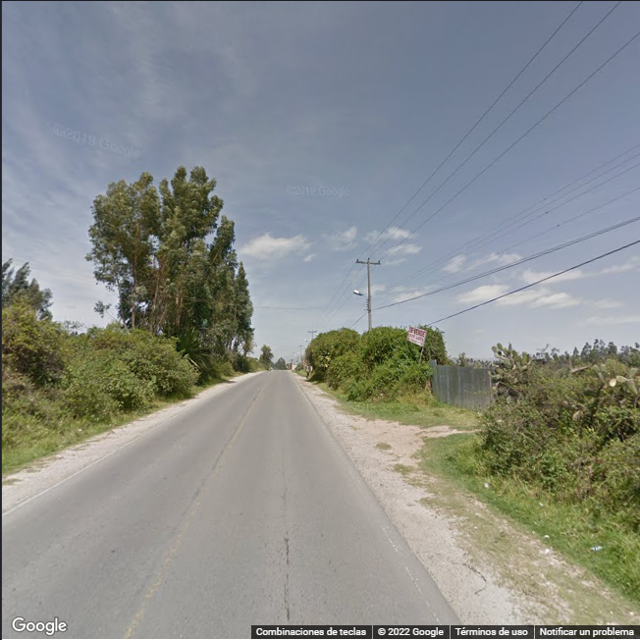D00: (278, 446, 291, 580)
